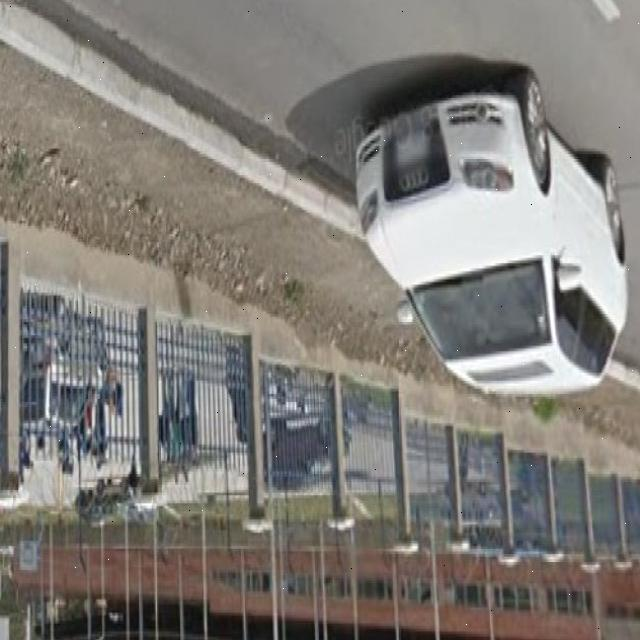car: (351, 75, 624, 386)
